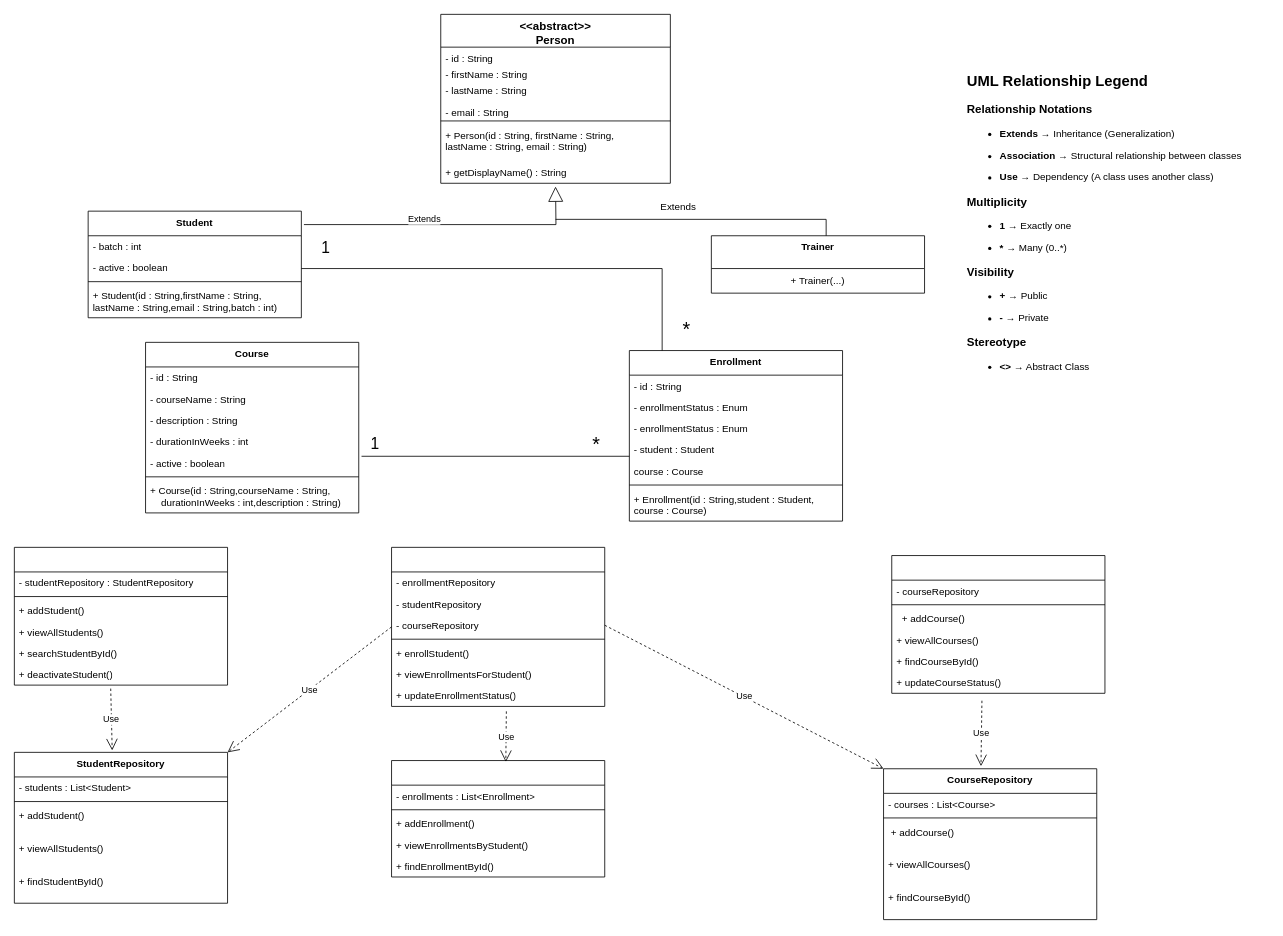
Some shapes in this 1283 by 936 pixel diagram are drawn without their labels. Here are the shapes that lost their labels. From the top down, the box of each, then its label:
(14, 547, 228, 685): StudentService
(391, 547, 605, 706): EnrollmentService
(891, 555, 1105, 693): CourseService
(391, 760, 605, 877): EnrollmentRepository
